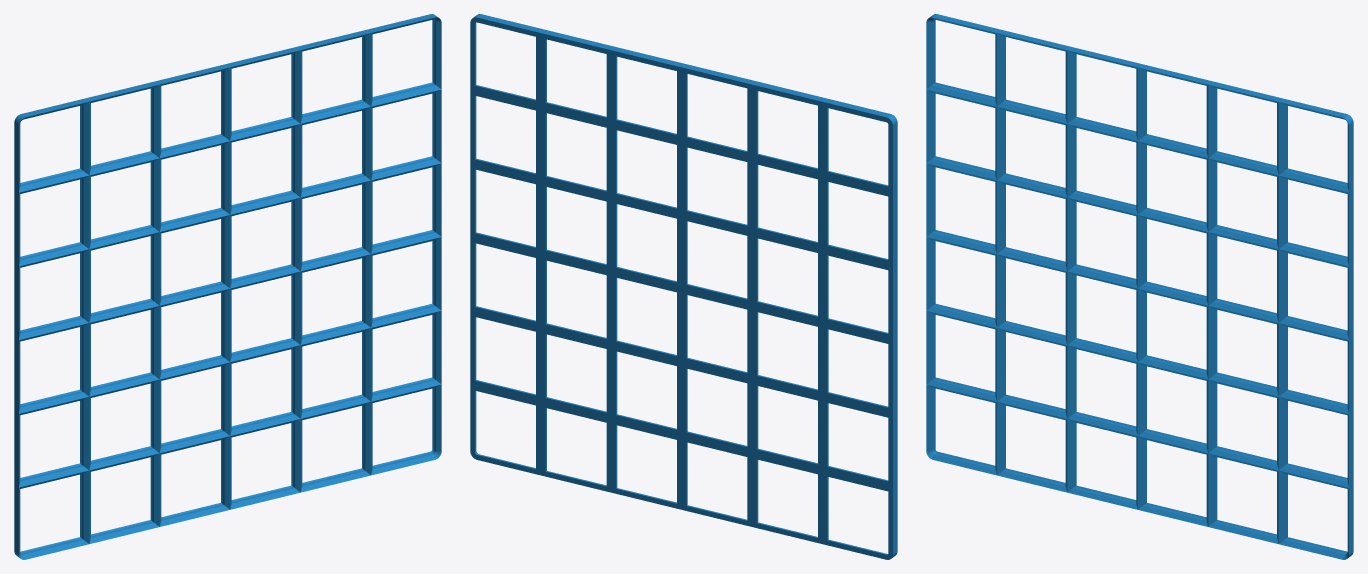
The model's file is grundplatte-x2d.glb.
The picture shows the model from 3 angles, left to right: view 1: azimuth 30°, elevation 25°; view 2: azimuth 150°, elevation 25°; view 3: azimuth 330°, elevation 25°; orthographic projection.
Parts seen in each view (by area): view 1: model; view 2: model; view 3: model.
Part boxes in pixels (bbox=[...]): model: bbox=[14, 14, 441, 559]; model: bbox=[470, 14, 897, 559]; model: bbox=[926, 14, 1353, 559].
Size of the model in its own units: 0.252 by 0.252 by 0.00465.
